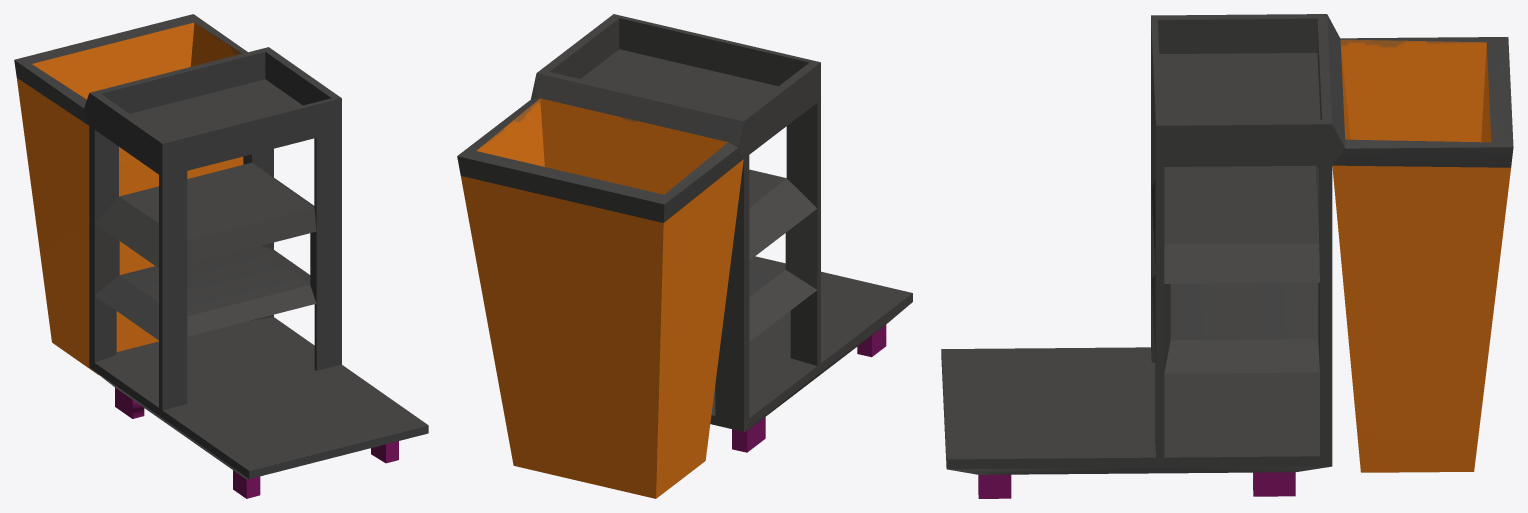
The model's file is cleaning_trolley.fbx.
The picture shows the model from 3 angles, left to right: view 1: azimuth 30°, elevation 25°; view 2: azimuth 150°, elevation 25°; view 3: azimuth 270°, elevation 25°; orthographic projection. The views are drawn at different scales.
Visible parts, largest first — view 1: cleaner_trolley; view 2: cleaner_trolley; view 3: cleaner_trolley.
Part boxes in pixels (x1,y1,x2,y2): cleaner_trolley: [14, 14, 428, 498]; cleaner_trolley: [457, 14, 912, 498]; cleaner_trolley: [941, 14, 1513, 498].
Size of the model in its own units: 78.21 by 121 by 164.
